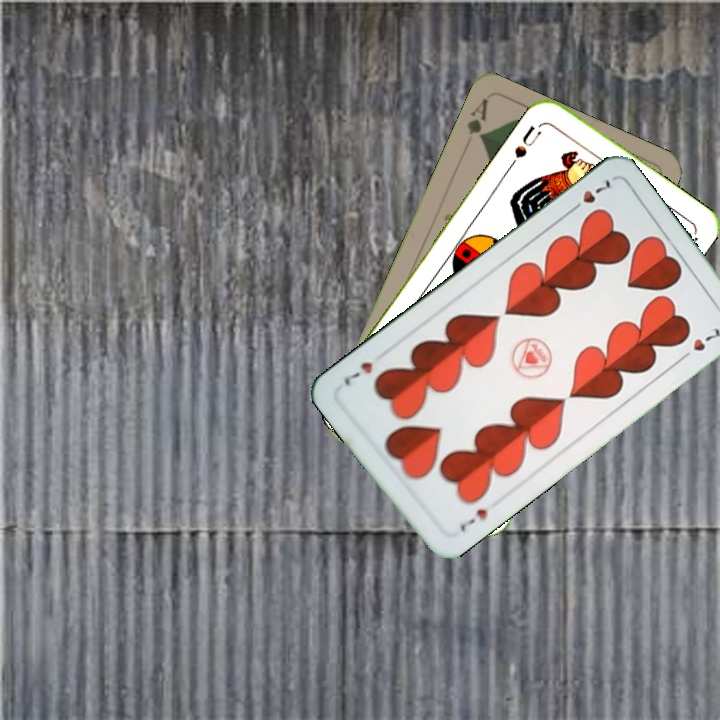GA: (462, 95, 491, 142)
H7: (564, 174, 616, 216), (455, 504, 490, 535)
SU: (505, 119, 546, 170)
